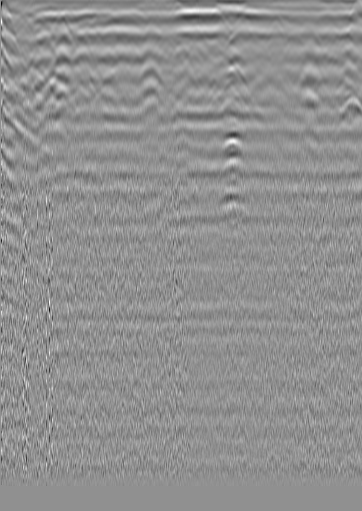가스: (216, 129, 248, 163)
상수: (295, 25, 324, 52)
오수: (30, 26, 60, 55)
우수: (170, 42, 190, 62)
